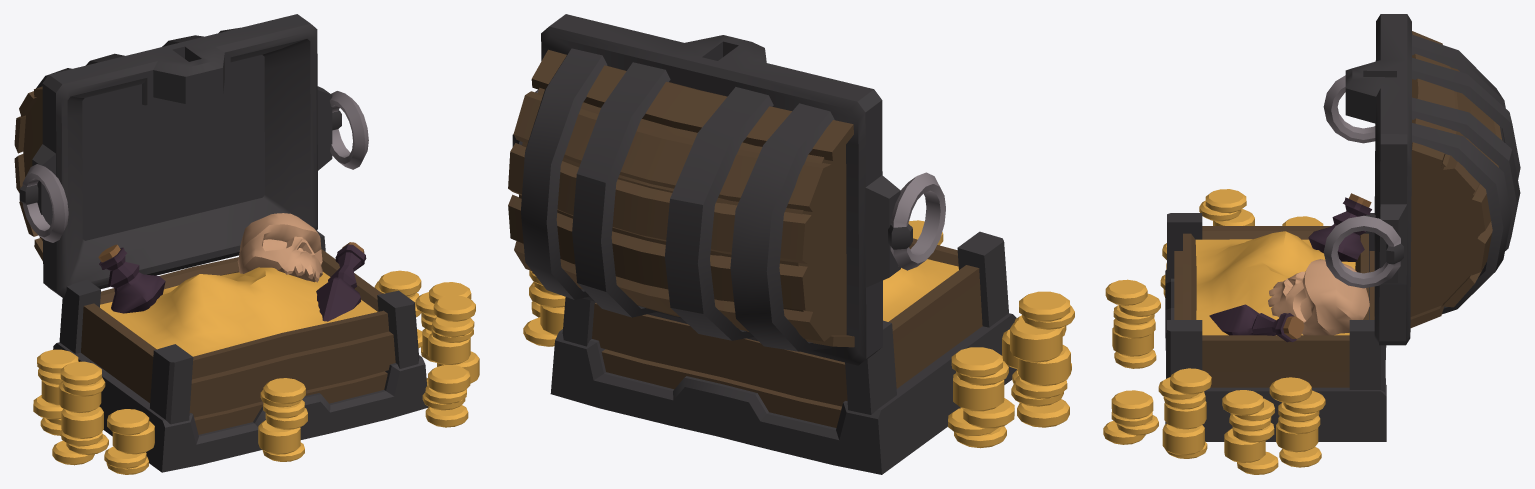
The model's file is Chest Gold.glb.
3 views of the same model, side by side, from view 1: azimuth 30°, elevation 25°; view 2: azimuth 150°, elevation 25°; view 3: azimuth 270°, elevation 25° (orthographic). The views are drawn at different scales.
Visible parts, largest first — view 1: Prop_Chest_Gold; view 2: Prop_Chest_Gold; view 3: Prop_Chest_Gold.
Part boxes in pixels (x1,y1,x2,y2): Prop_Chest_Gold: (14, 14, 479, 474); Prop_Chest_Gold: (508, 14, 1074, 474); Prop_Chest_Gold: (1103, 14, 1520, 474).
Size of the model in its own units: 1.82 by 1.29 by 1.59.
1 material, 1 textured.
